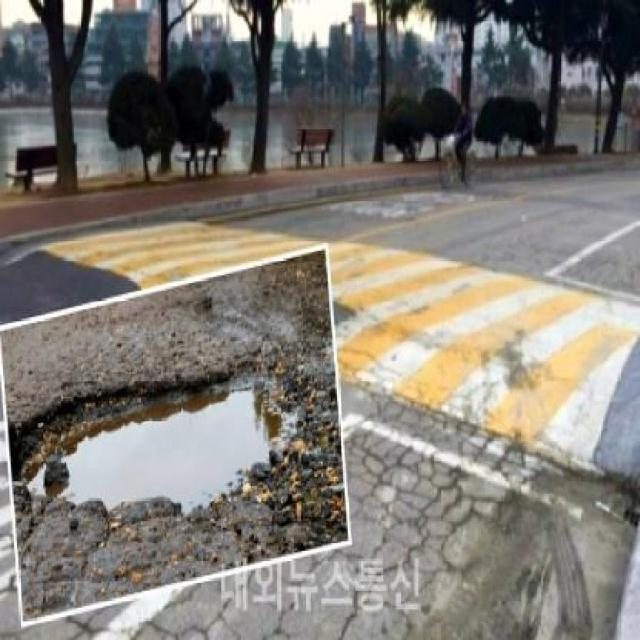Pothole: (22, 358, 300, 524)
